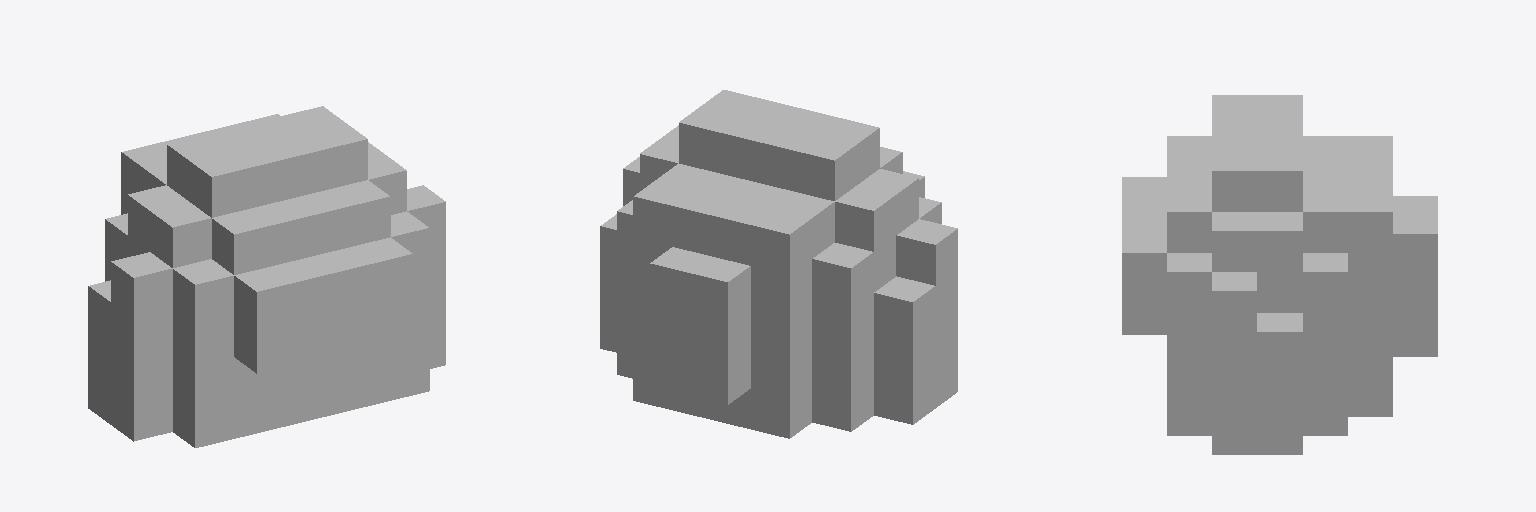
File: Head 14.obj
The picture shows the model from 3 angles: view 1: azimuth 30°, elevation 25°; view 2: azimuth 150°, elevation 25°; view 3: azimuth 270°, elevation 25°; orthographic projection.
Bounding box in the file's own units: 8 × 6 × 7.